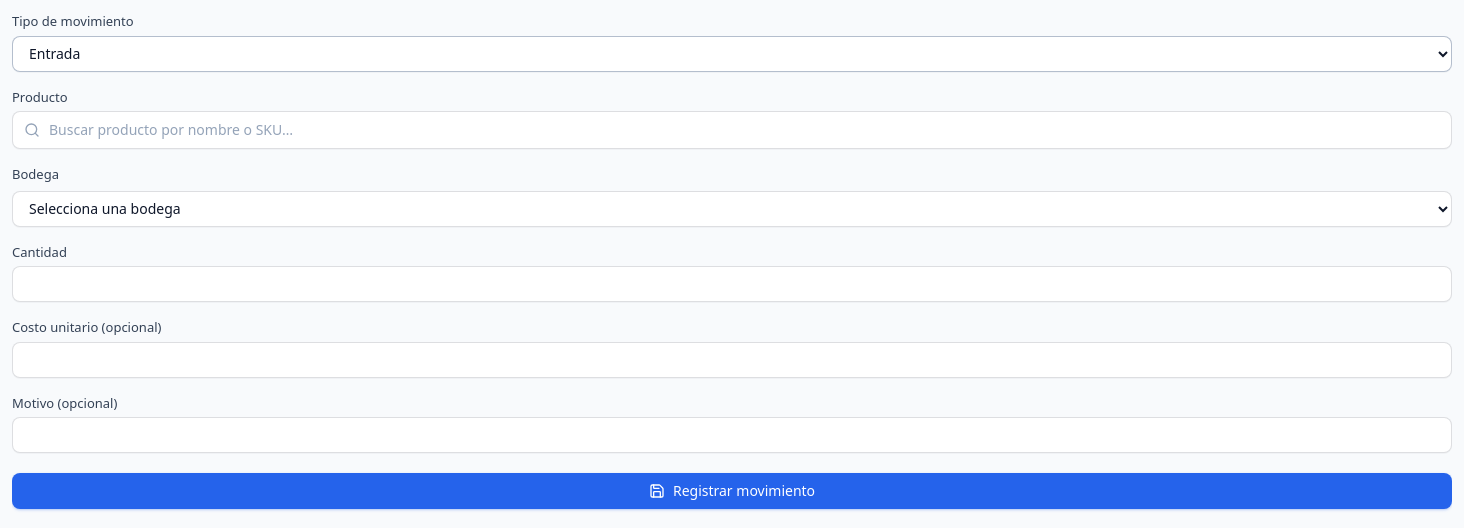
Test case: MovementForm › shows the unit cost field only for ENTRADA
The image size is (1464, 528).
Check: the number field labelled "Costo unitario (opcional)" is shown, box 12,342 -> 1452,378
Step 1. Select "Salida" in the dropdown labelled "Tipo de movimiento" → (732, 54), box 12,36 -> 1452,72
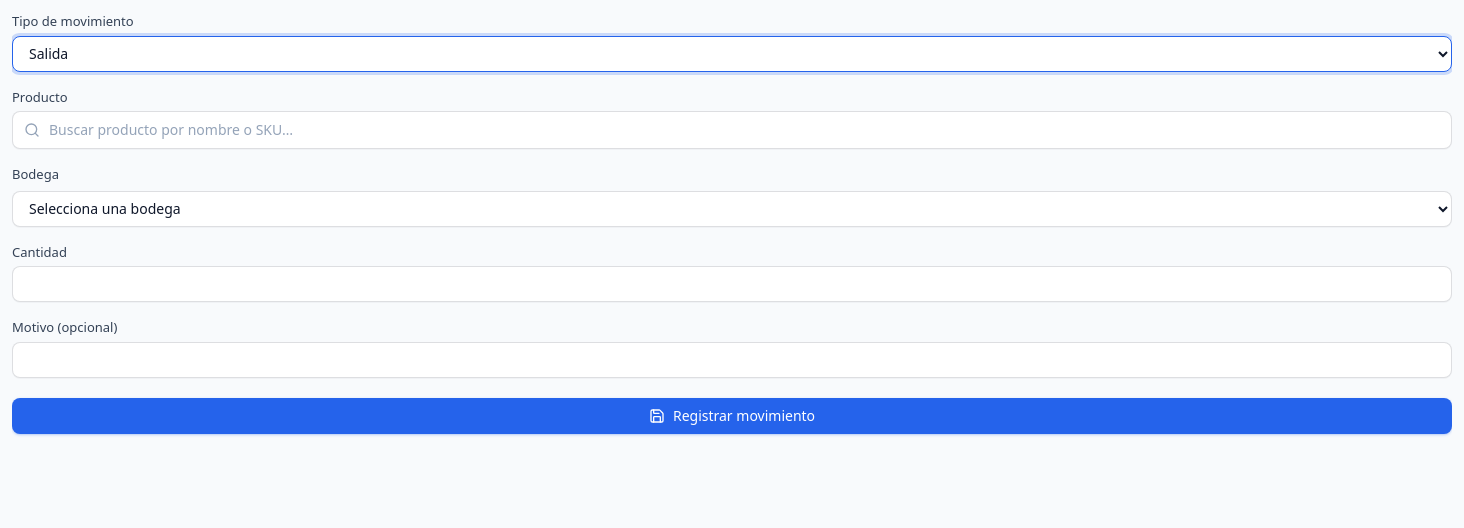
Check: the label labelled "Costo unitario (opcional)" is gone
